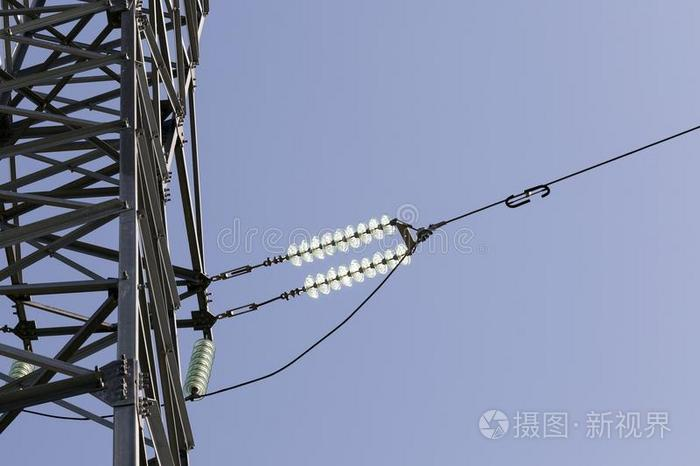insulator: (290, 215, 411, 295), (184, 339, 219, 398)
